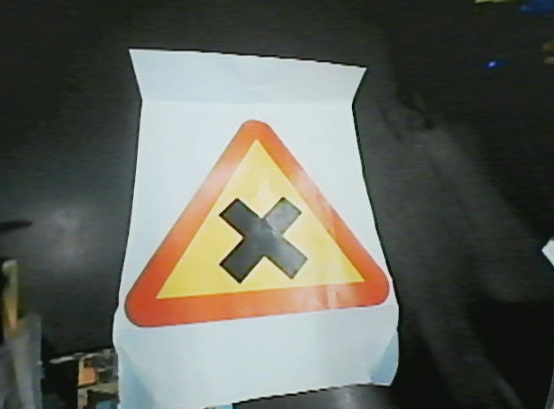junction: (108, 117, 395, 329)
